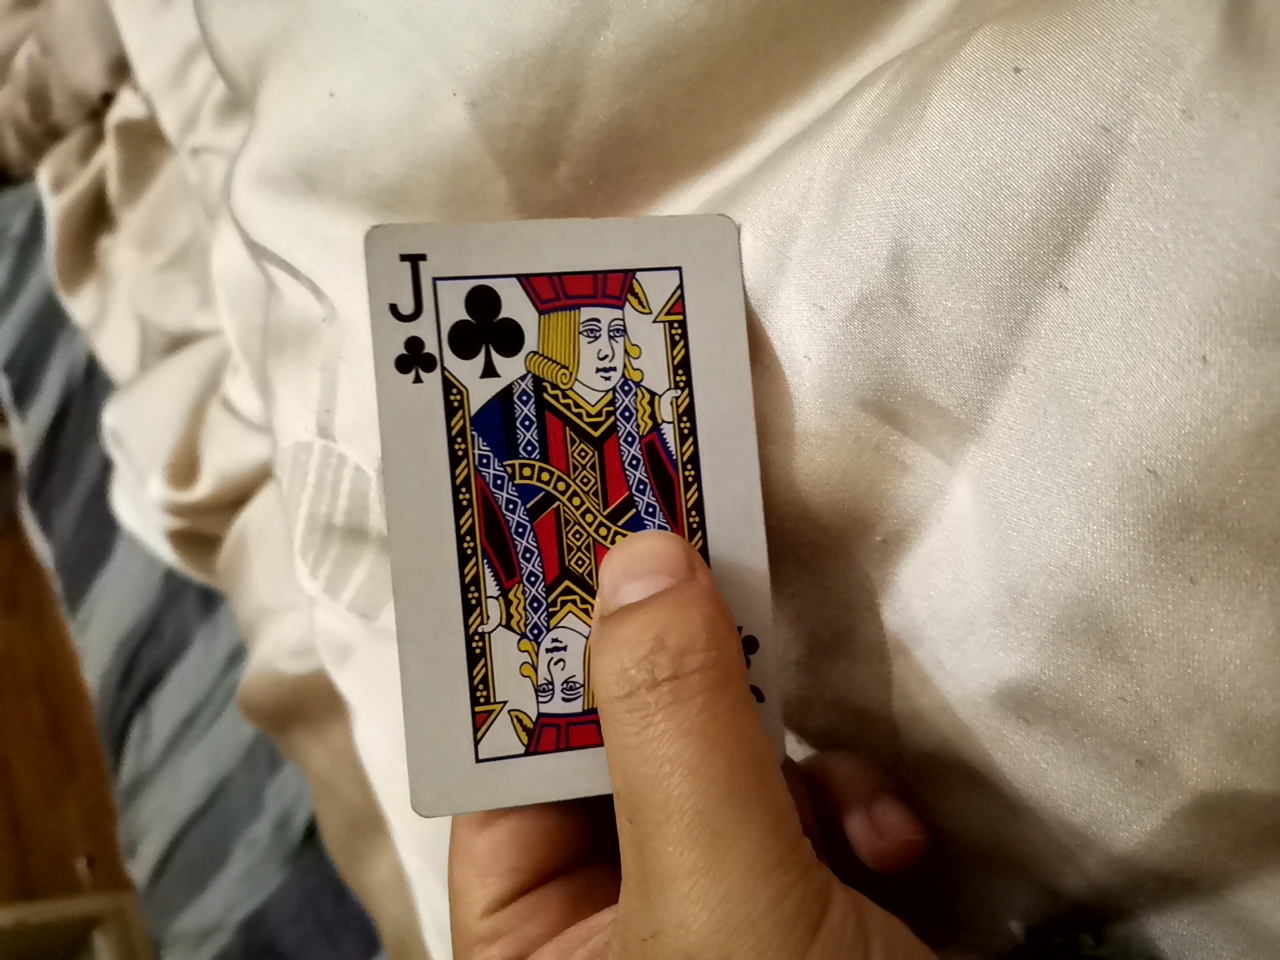mh j: (332, 222, 773, 877)
